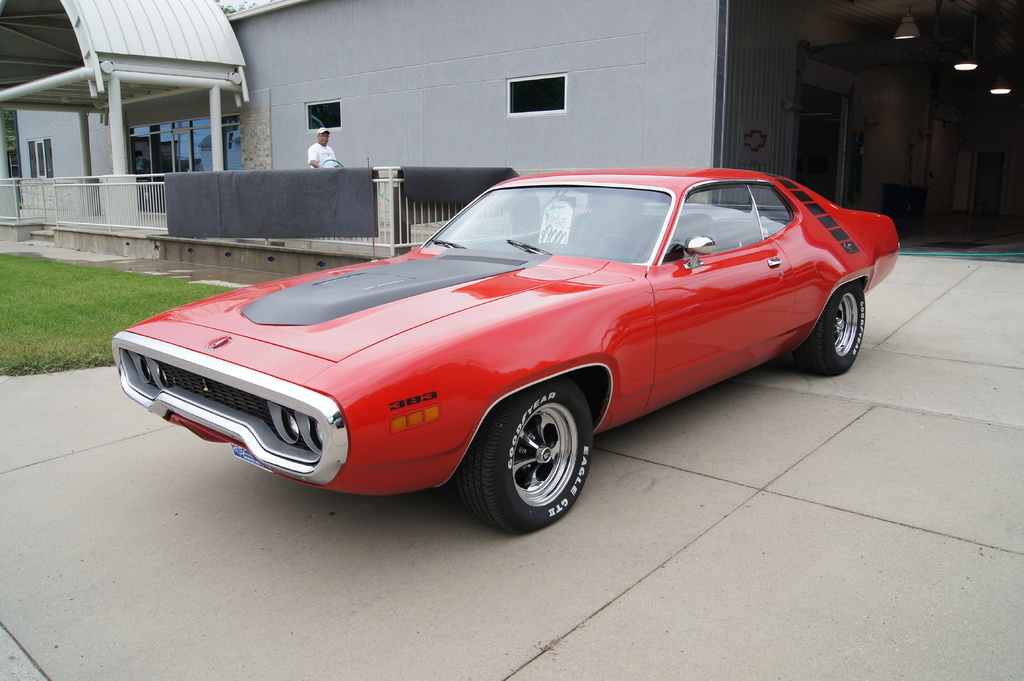Car: (128, 158, 900, 526)
